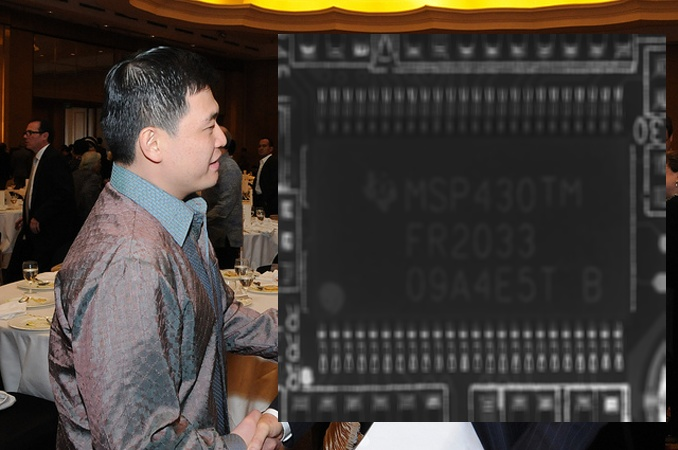PIN: (300, 80, 638, 155), (299, 306, 637, 380)
wineglass: (22, 261, 38, 295), (234, 257, 248, 294), (237, 270, 254, 297), (256, 209, 263, 228)
